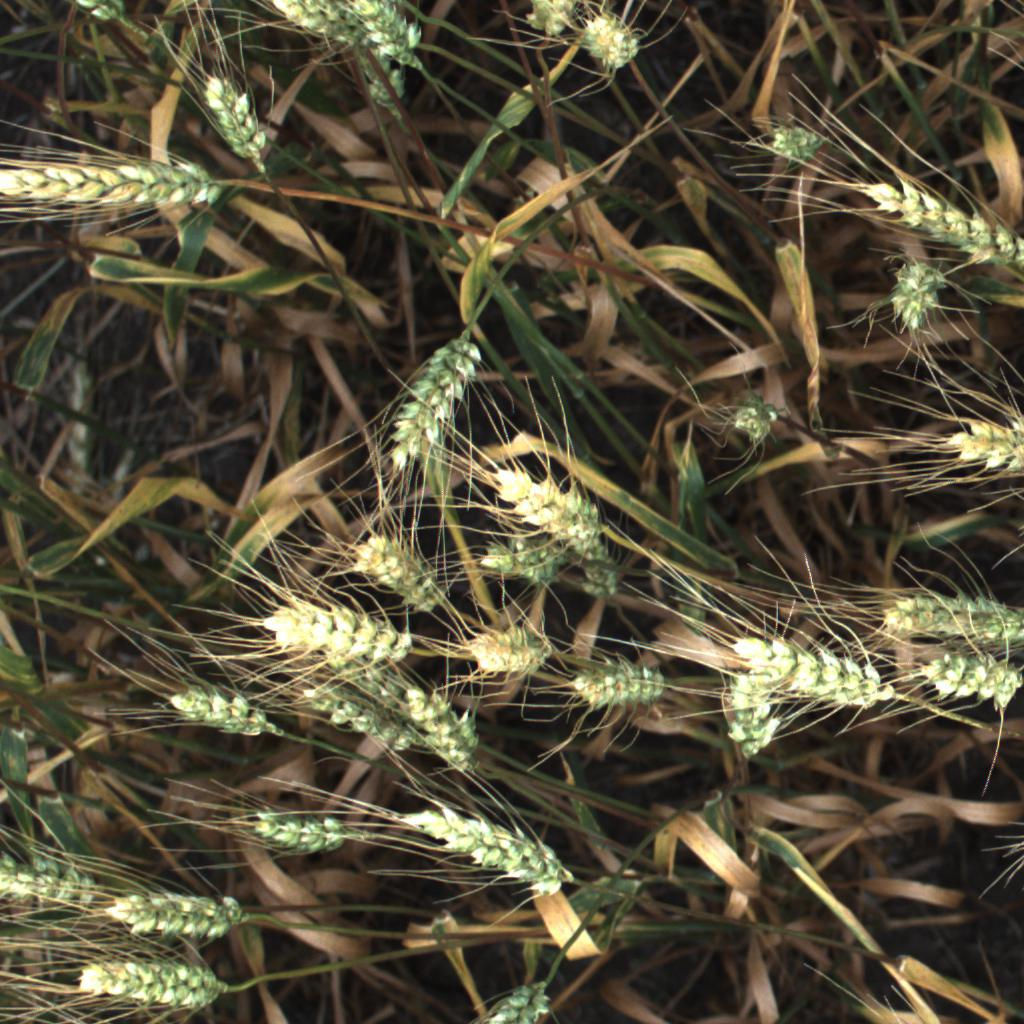0-0: (700, 619, 921, 736), (394, 794, 594, 904), (370, 317, 490, 487), (855, 171, 1024, 282), (0, 145, 233, 223), (257, 583, 424, 673), (484, 459, 618, 569), (185, 60, 288, 173), (67, 946, 239, 1013), (872, 582, 1024, 655), (700, 656, 800, 763), (97, 880, 256, 946), (892, 636, 1024, 712), (399, 682, 496, 785), (229, 791, 371, 861), (342, 525, 445, 620), (293, 678, 410, 758), (158, 679, 285, 752), (555, 0, 655, 89), (555, 650, 675, 722), (879, 239, 955, 348), (337, 0, 437, 81), (461, 613, 564, 685), (0, 852, 112, 917), (470, 528, 580, 591), (264, 0, 369, 58), (472, 965, 570, 1024), (754, 111, 834, 180), (505, 0, 608, 42), (949, 418, 1023, 468), (363, 44, 406, 108), (579, 536, 622, 598), (729, 405, 774, 439), (84, 1020, 305, 1024), (1020, 781, 1024, 867)
